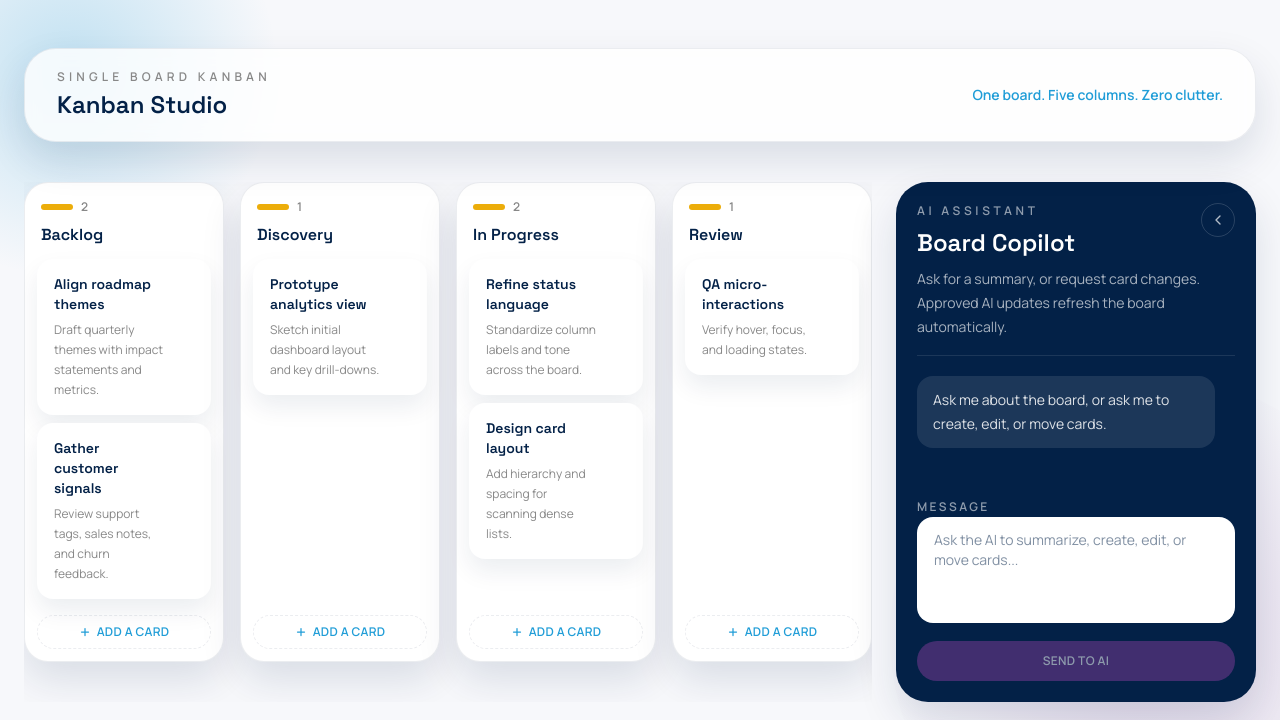
Test: KanbanBoard › collapses and expands the AI assistant without losing chat state
Type "Can you help?" into the text box labelled "Message" at {"x": 1076, "y": 570}, box [917, 517, 1235, 623]
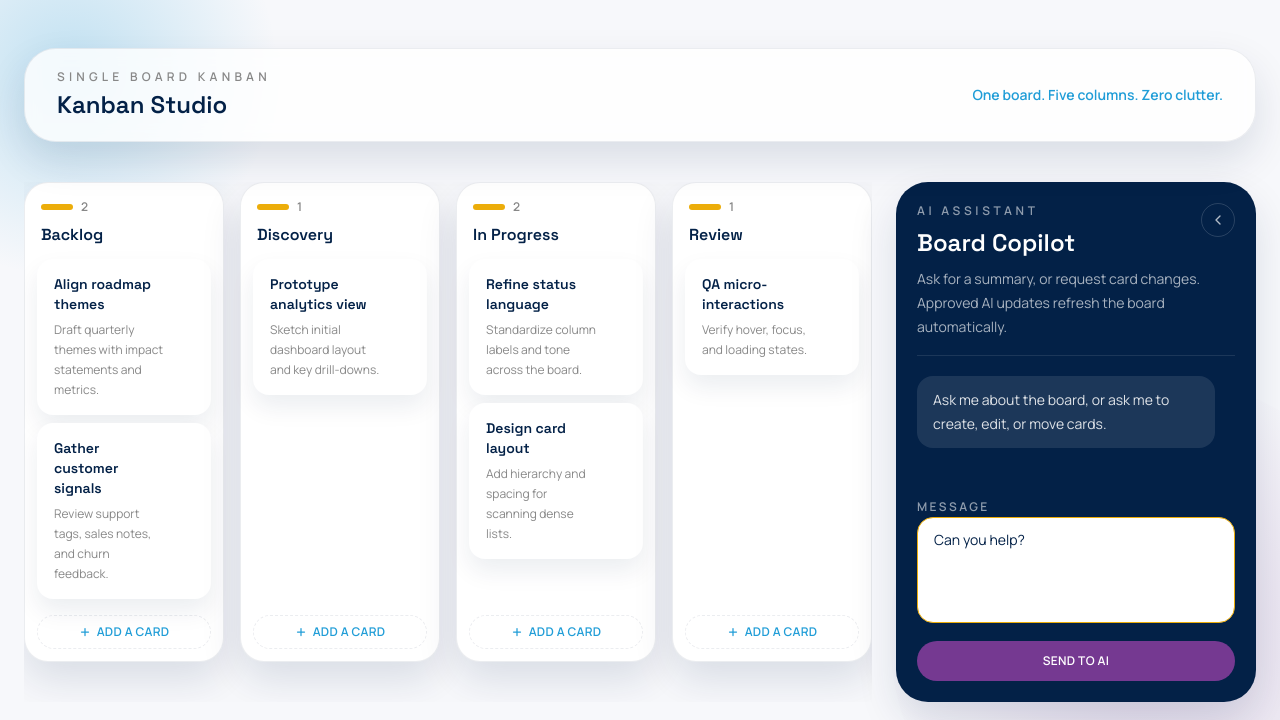
Click the button "Send to AI" at {"x": 1076, "y": 661}, box [917, 641, 1235, 681]
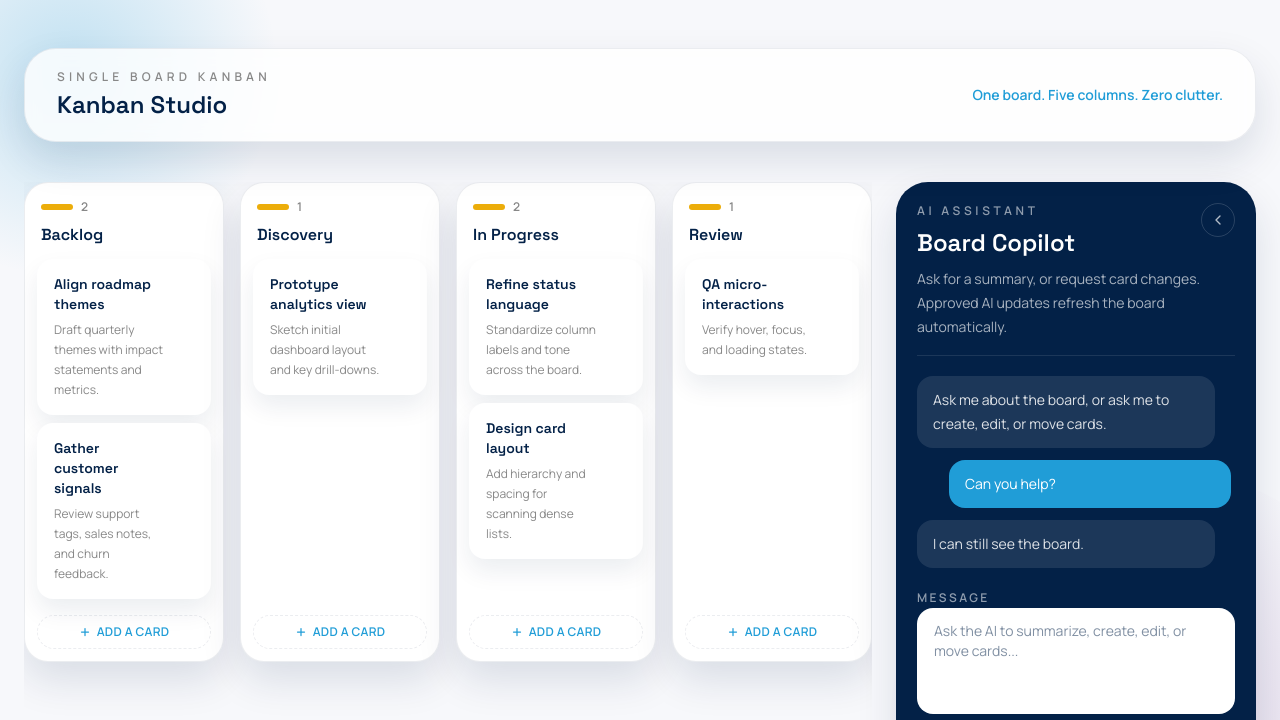
Check: the text "I can still see the board." is shown, box [933, 534, 1084, 553]
Click the button named "collapse ai assistant" at {"x": 1218, "y": 220}, box [1201, 203, 1235, 237]
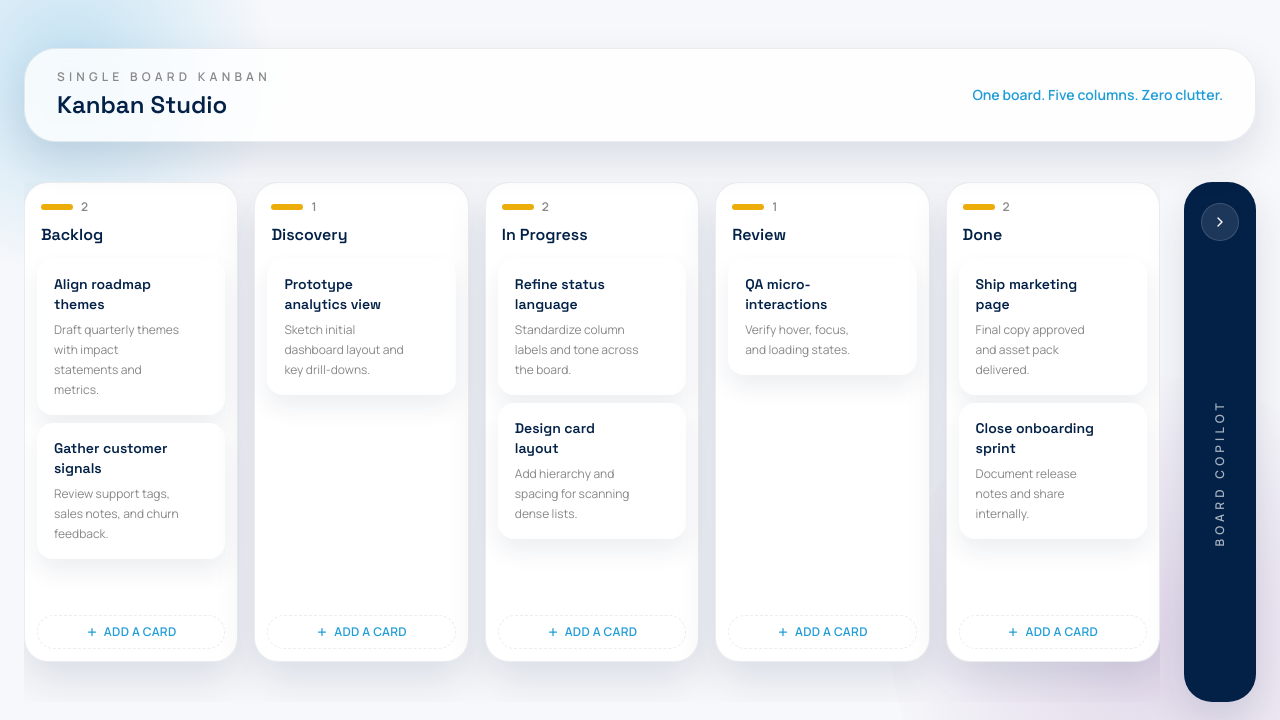
Check: the text "I can still see the board." is gone
Click the button named "expand ai assistant" at {"x": 1220, "y": 222}, box [1201, 203, 1239, 241]
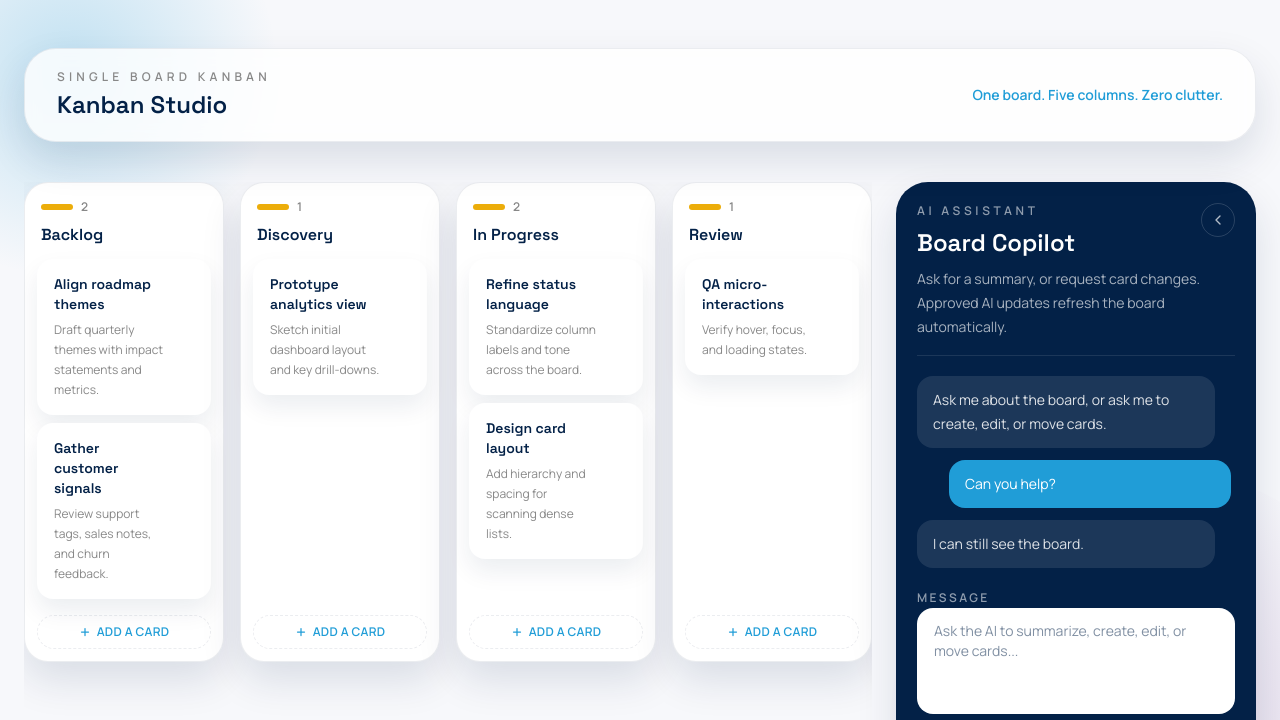
Check: the text "I can still see the board." is shown, box [933, 534, 1084, 553]
